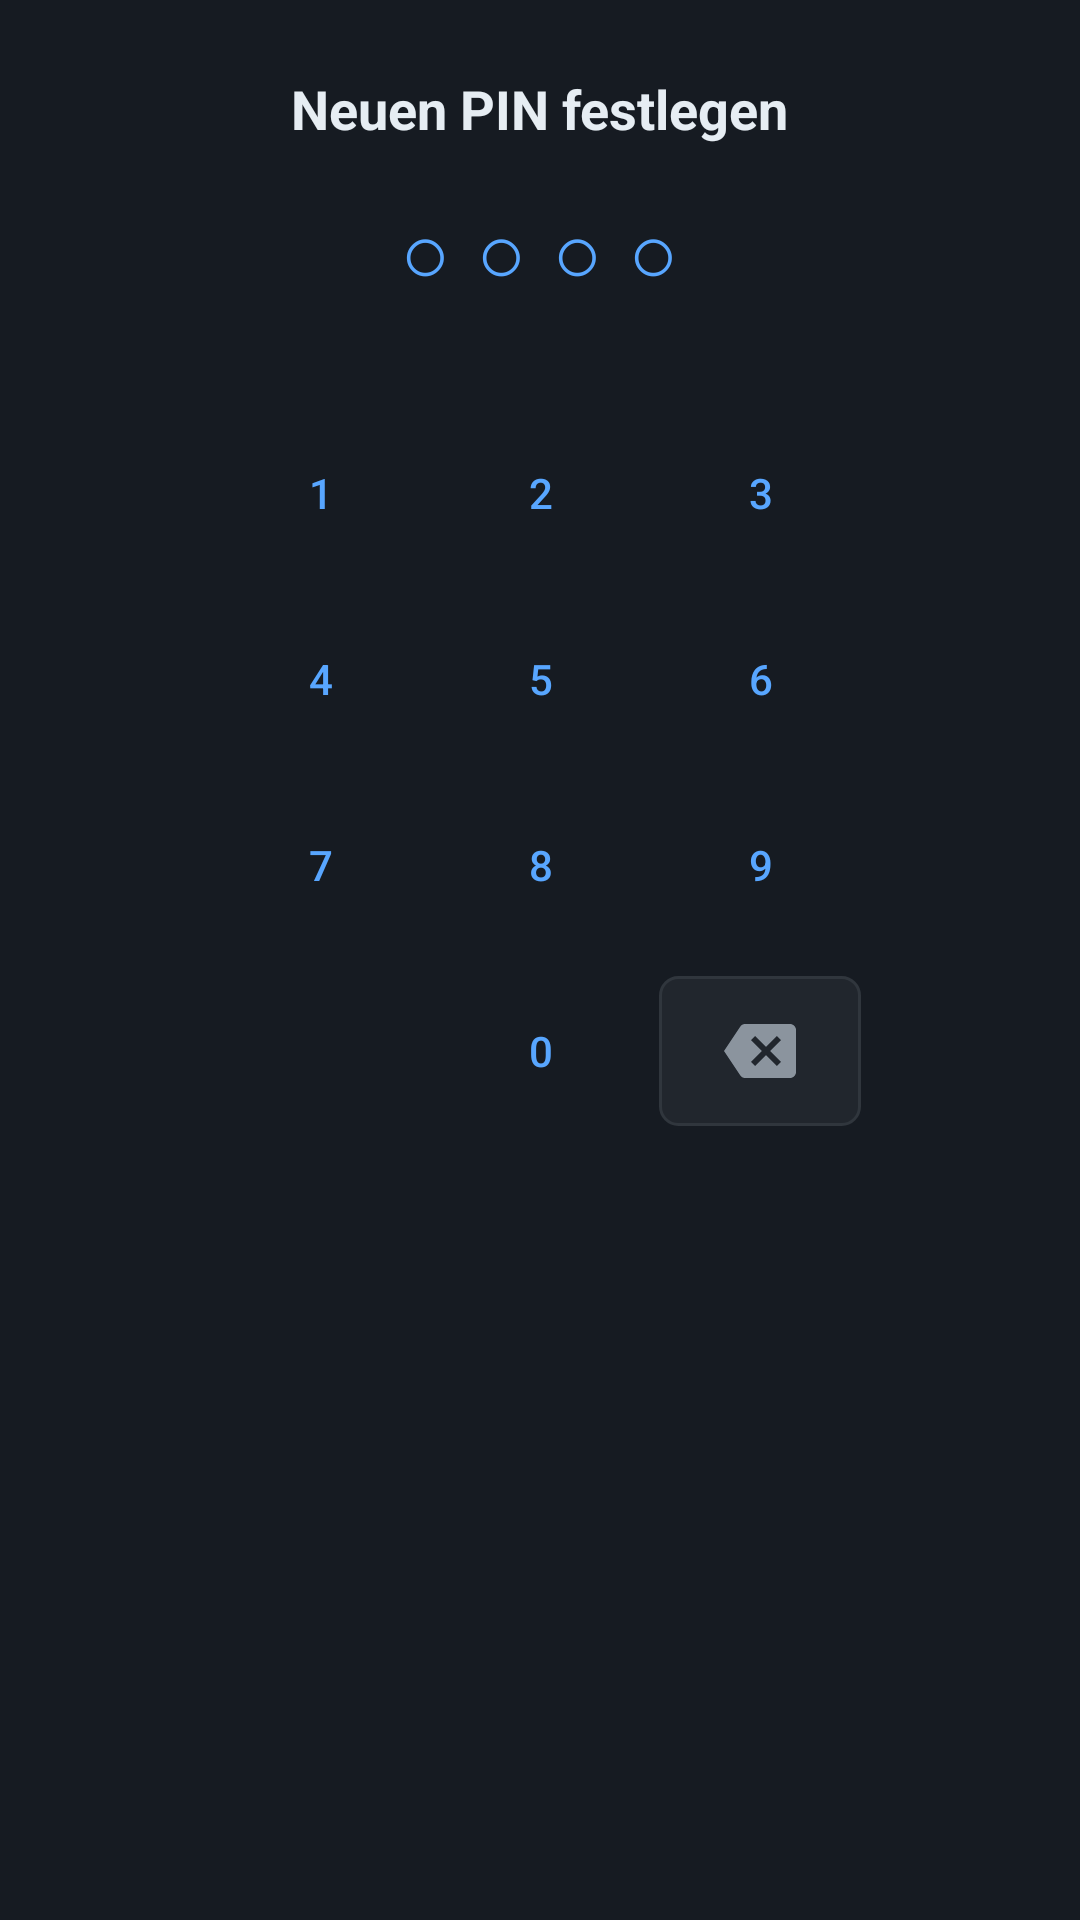

Named icons in this screenshot (1080w x 1920h) and their centers, [x,y]:
backspace: [760,1051]
